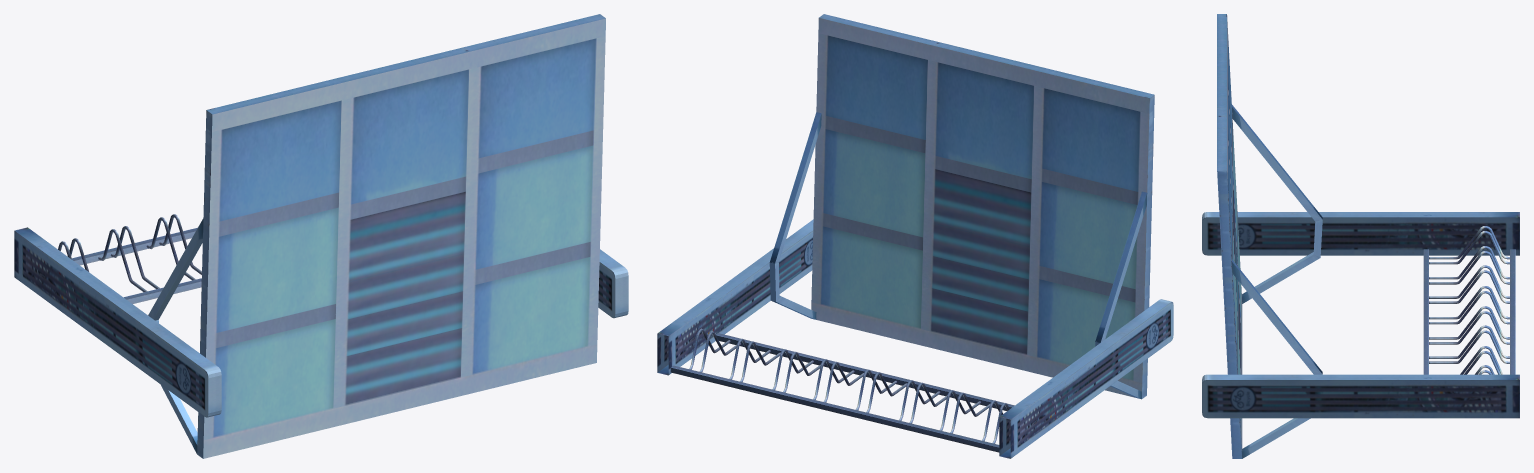
Rendered from RTD2501220729_0160L_01_normalization.obj.
3 views of the same model, side by side, from view 1: azimuth 30°, elevation 25°; view 2: azimuth 150°, elevation 25°; view 3: azimuth 270°, elevation 25° (orthographic). The views are drawn at different scales.
Parts seen in each view (by area): view 1: RTD2501220729_0160S_01; view 2: RTD2501220729_0160S_01; view 3: RTD2501220729_0160S_01.
Part boxes in pixels (x1,y1,x2,y2): RTD2501220729_0160S_01: [14, 14, 628, 458]; RTD2501220729_0160S_01: [657, 14, 1173, 458]; RTD2501220729_0160S_01: [1202, 14, 1519, 458].
Size of the model in its own units: 0.6627 by 0.5293 by 0.5298.
1 material, 1 textured.
